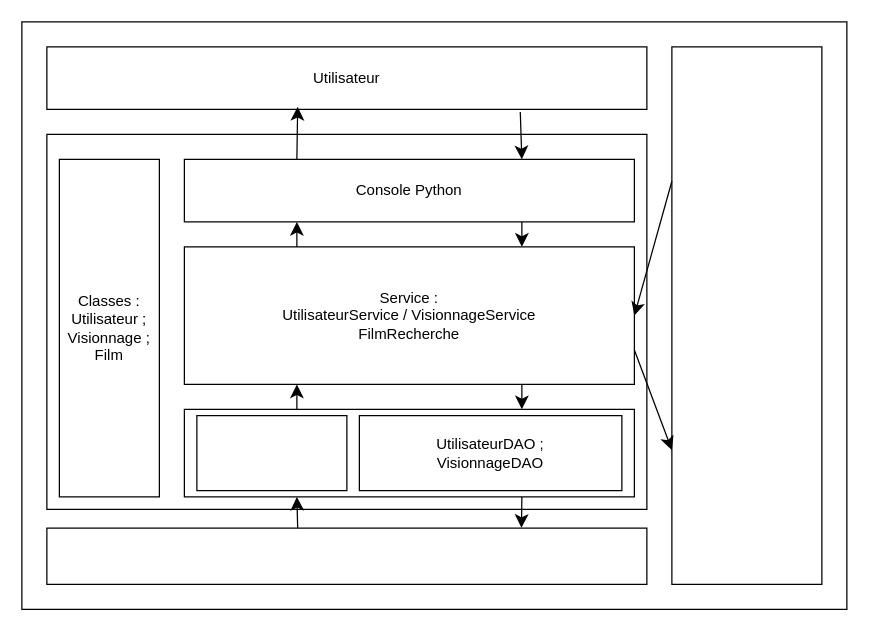
Image size: 869x631. Some labels were removed from this diagram. Here are the shapes that lost their labels. From the top down, the centre of each, then its label:
pixel 746 315: TMBD
pixel 271 452: DAO : PostgrSQL
pixel 346 555: Stockage local
